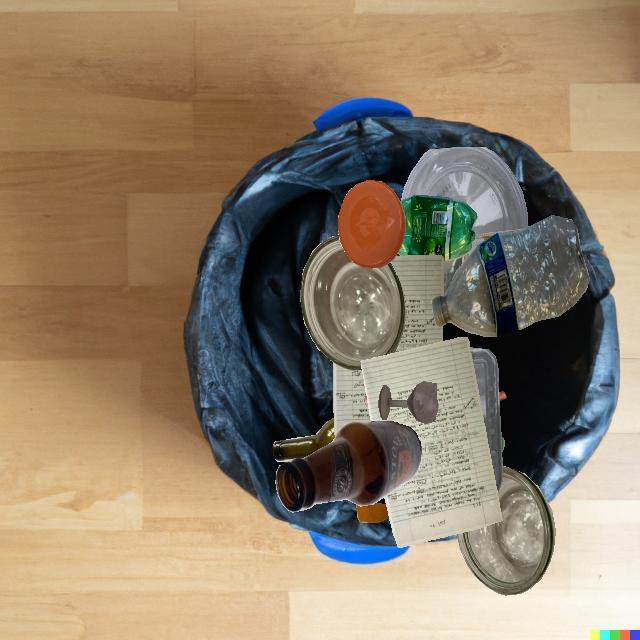biowaste: (356, 502, 389, 523), (499, 391, 507, 401), (364, 398, 368, 406)
glass: (300, 236, 406, 370), (276, 421, 422, 512), (457, 466, 556, 595), (443, 229, 525, 296), (273, 418, 335, 462), (378, 381, 437, 423)
paper: (361, 337, 502, 548), (390, 254, 443, 353), (333, 362, 371, 437)
plastic: (431, 215, 590, 337), (401, 147, 528, 234), (339, 180, 406, 269), (398, 195, 477, 263), (470, 347, 503, 493), (501, 434, 504, 453)
